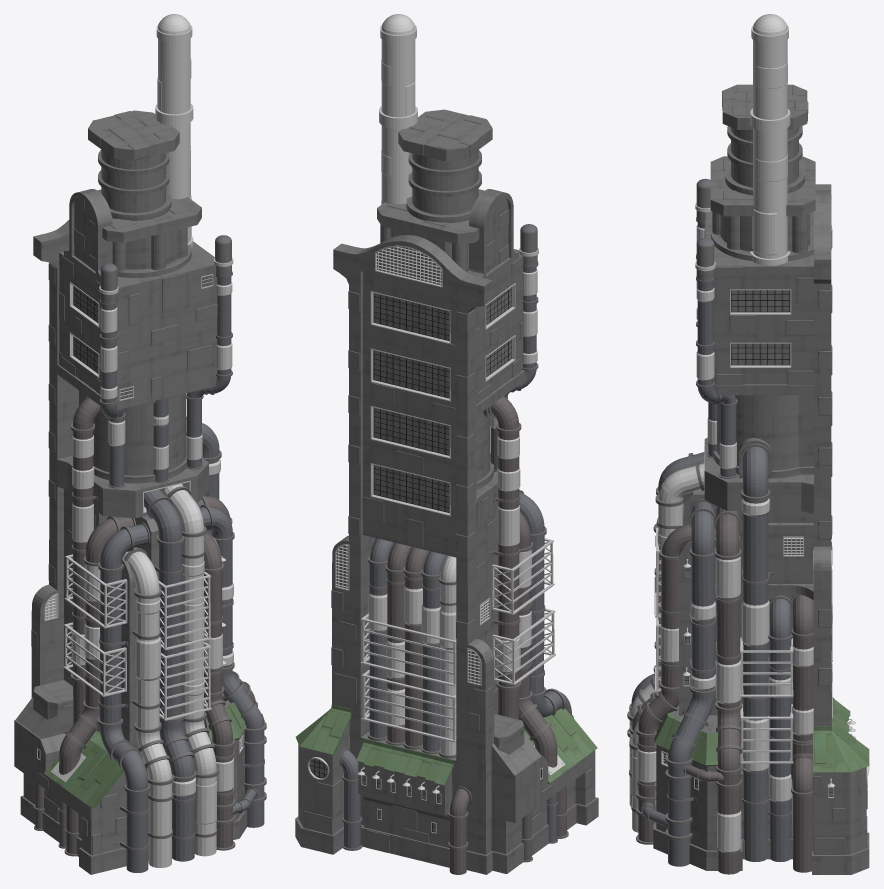
Rendered from AreaH_Building_Aa.fbx.
The picture shows the model from 3 angles, left to right: view 1: azimuth 30°, elevation 25°; view 2: azimuth 150°, elevation 25°; view 3: azimuth 270°, elevation 25°; orthographic projection. The views are drawn at different scales.
Parts seen in each view (by area): view 1: SM_ENV_AMVLLG02_AreaH_Building_Aa.mo; view 2: SM_ENV_AMVLLG02_AreaH_Building_Aa.mo; view 3: SM_ENV_AMVLLG02_AreaH_Building_Aa.mo.
Boxes of the visible parts, left/top/right/bottom form: SM_ENV_AMVLLG02_AreaH_Building_Aa.mo: left=14, top=14, right=266, bottom=874; SM_ENV_AMVLLG02_AreaH_Building_Aa.mo: left=295, top=14, right=598, bottom=874; SM_ENV_AMVLLG02_AreaH_Building_Aa.mo: left=627, top=14, right=869, bottom=874.
Size of the model in its own units: 2442 by 8884 by 2355.
